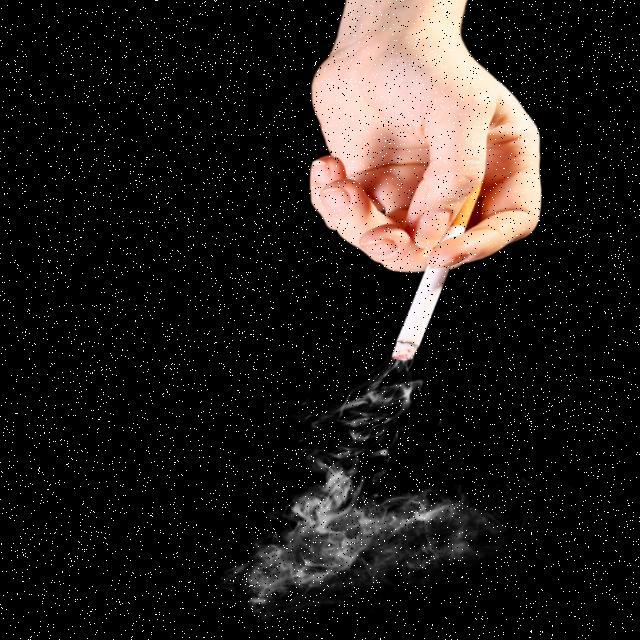cigarette: (340, 254, 480, 378)
